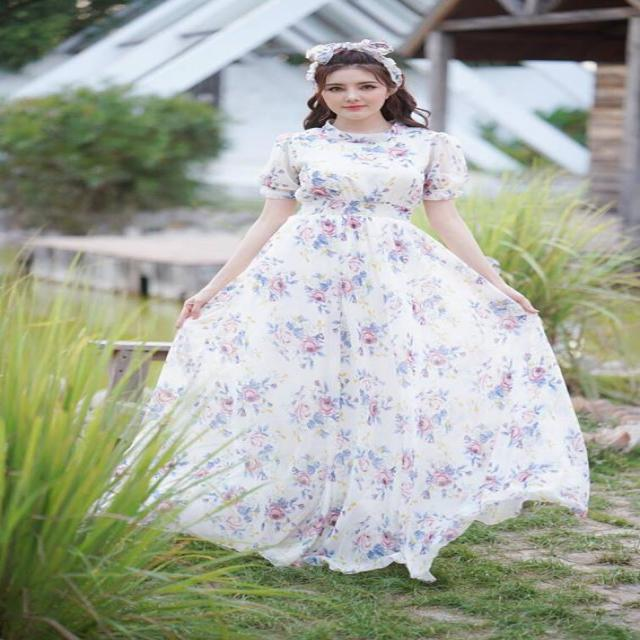clothes: (139, 123, 602, 580)
